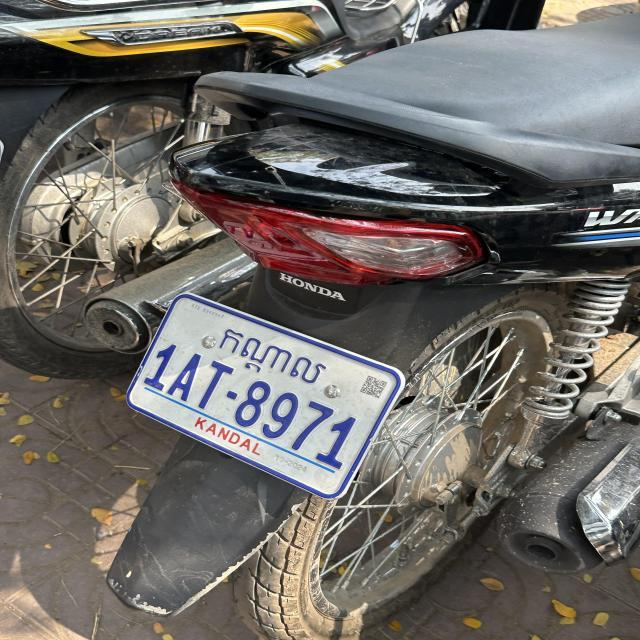Kandal: (216, 327, 327, 386)
